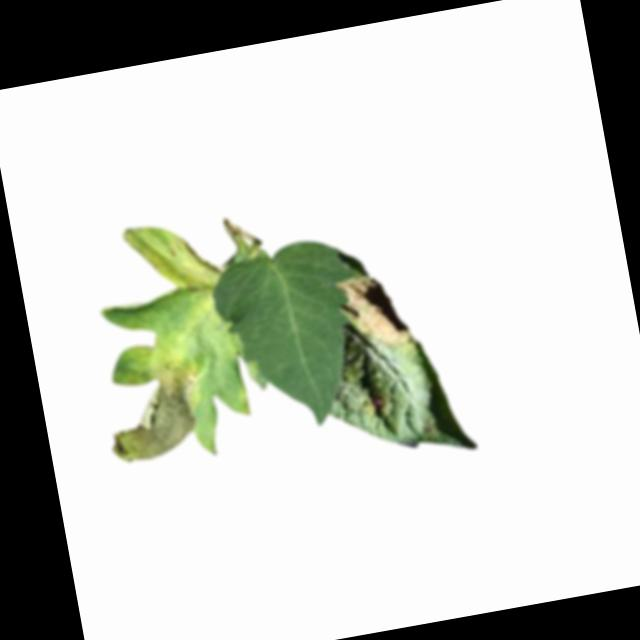Late_blight: (94, 333, 217, 468), (335, 267, 416, 359), (142, 225, 223, 301), (359, 393, 394, 420)
healthy: (206, 232, 377, 441)
